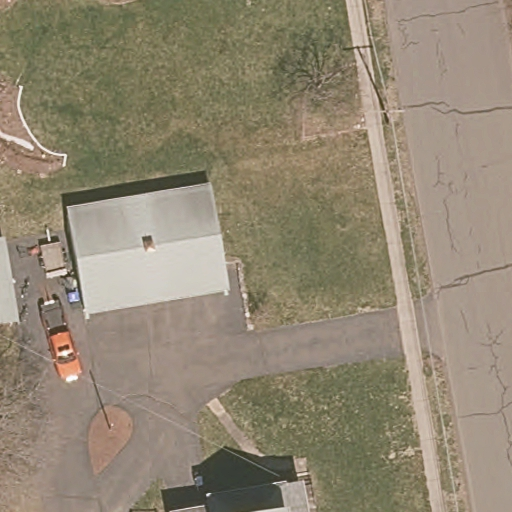DT: (370, 77, 406, 123)
